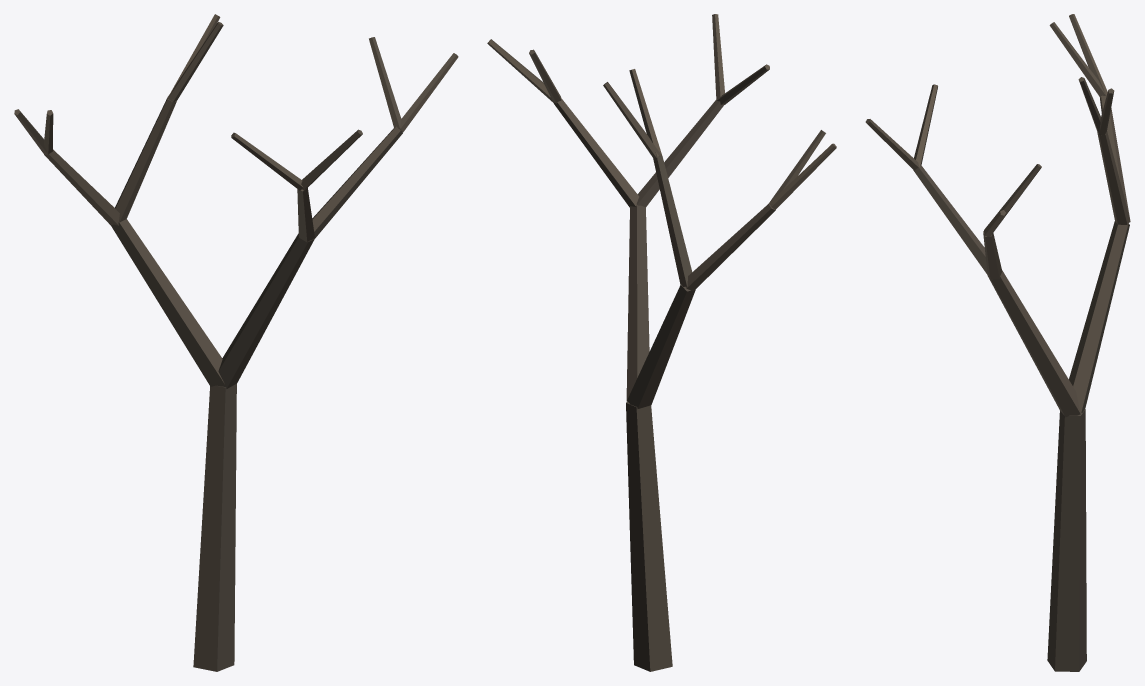
Rendered from dead_tree.glb.
3 renders of one model, left to right at view 1: azimuth 30°, elevation 25°; view 2: azimuth 150°, elevation 25°; view 3: azimuth 270°, elevation 25°, orthographic. The views are drawn at different scales.
Parts seen in each view (by area): view 1: dead_tree; view 2: dead_tree; view 3: dead_tree.
Boxes of the visible parts, <box> form: dead_tree: <box>14,14,458,671</box>; dead_tree: <box>487,14,836,671</box>; dead_tree: <box>865,14,1130,671</box>.
Bounding box in the file's own units: 4.46 × 6.64 × 2.69.
1 material, 1 textured.
